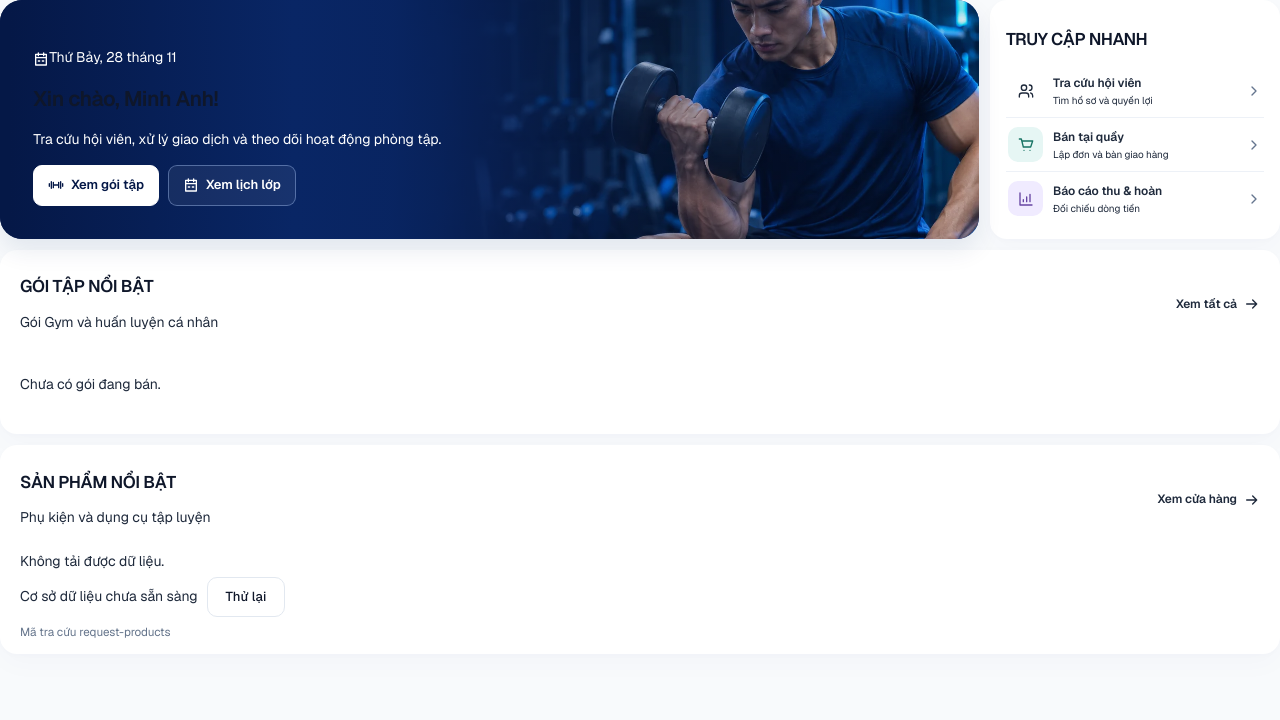
Test case: operations home › keeps a successful empty plans response while retrying only the failed products request
Expected: the text "Chưa có gói đang bán." is shown, [20,376,161,394]
Expected: the message shows "request-products", [79,624,170,640]
Click the button "Thử lại" at (246, 597), box [206,577,285,617]
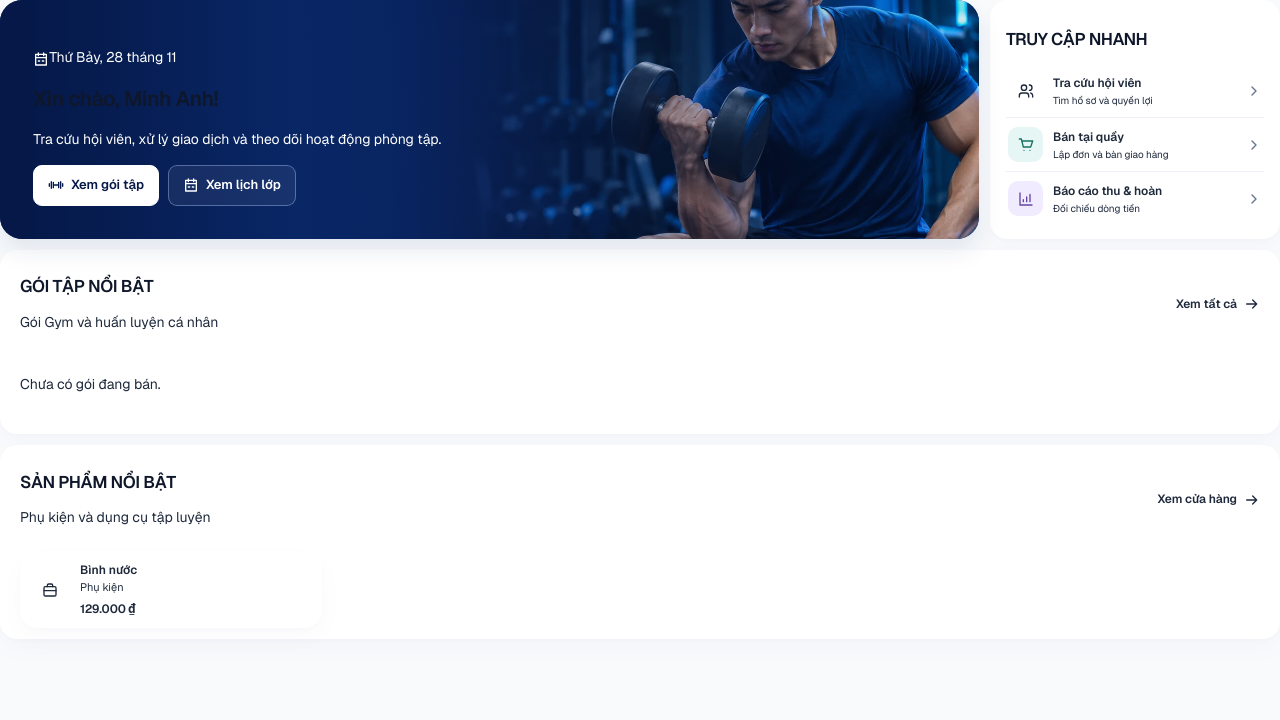
Expected: the text "Chưa có gói đang bán." is shown, [20,376,161,394]
Expected: the link "Bình nước Phụ kiện 129.000 ₫" is shown, [20,552,322,628]
Expected: the message "Không tải được dữ liệu. Cơ sở dữ liệu chưa sẵn sàng Mã tra cứu request-products" is gone
